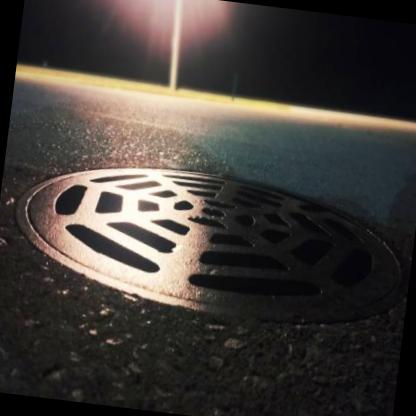manholes: (0, 107, 416, 389)
